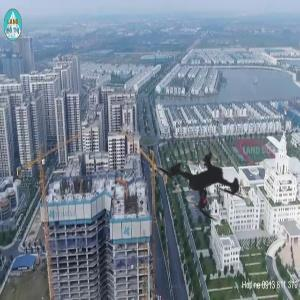drone: (133, 114, 275, 256)
